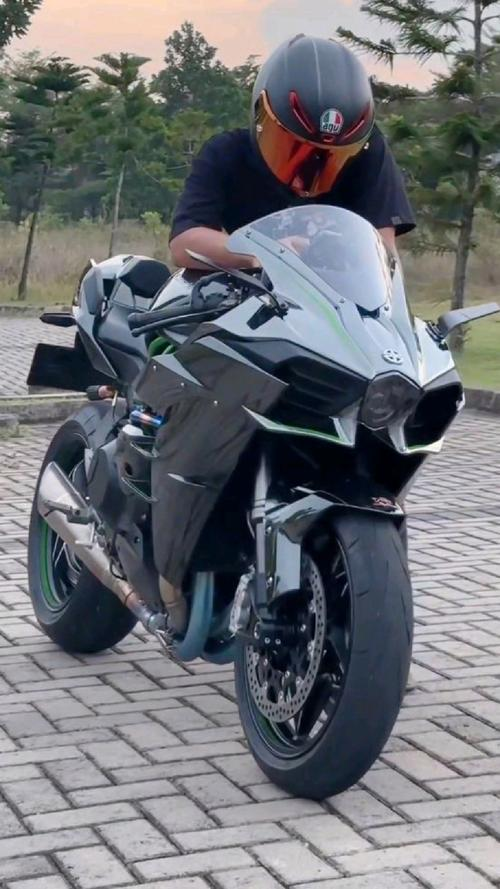摩托车: (14, 244, 500, 796)
